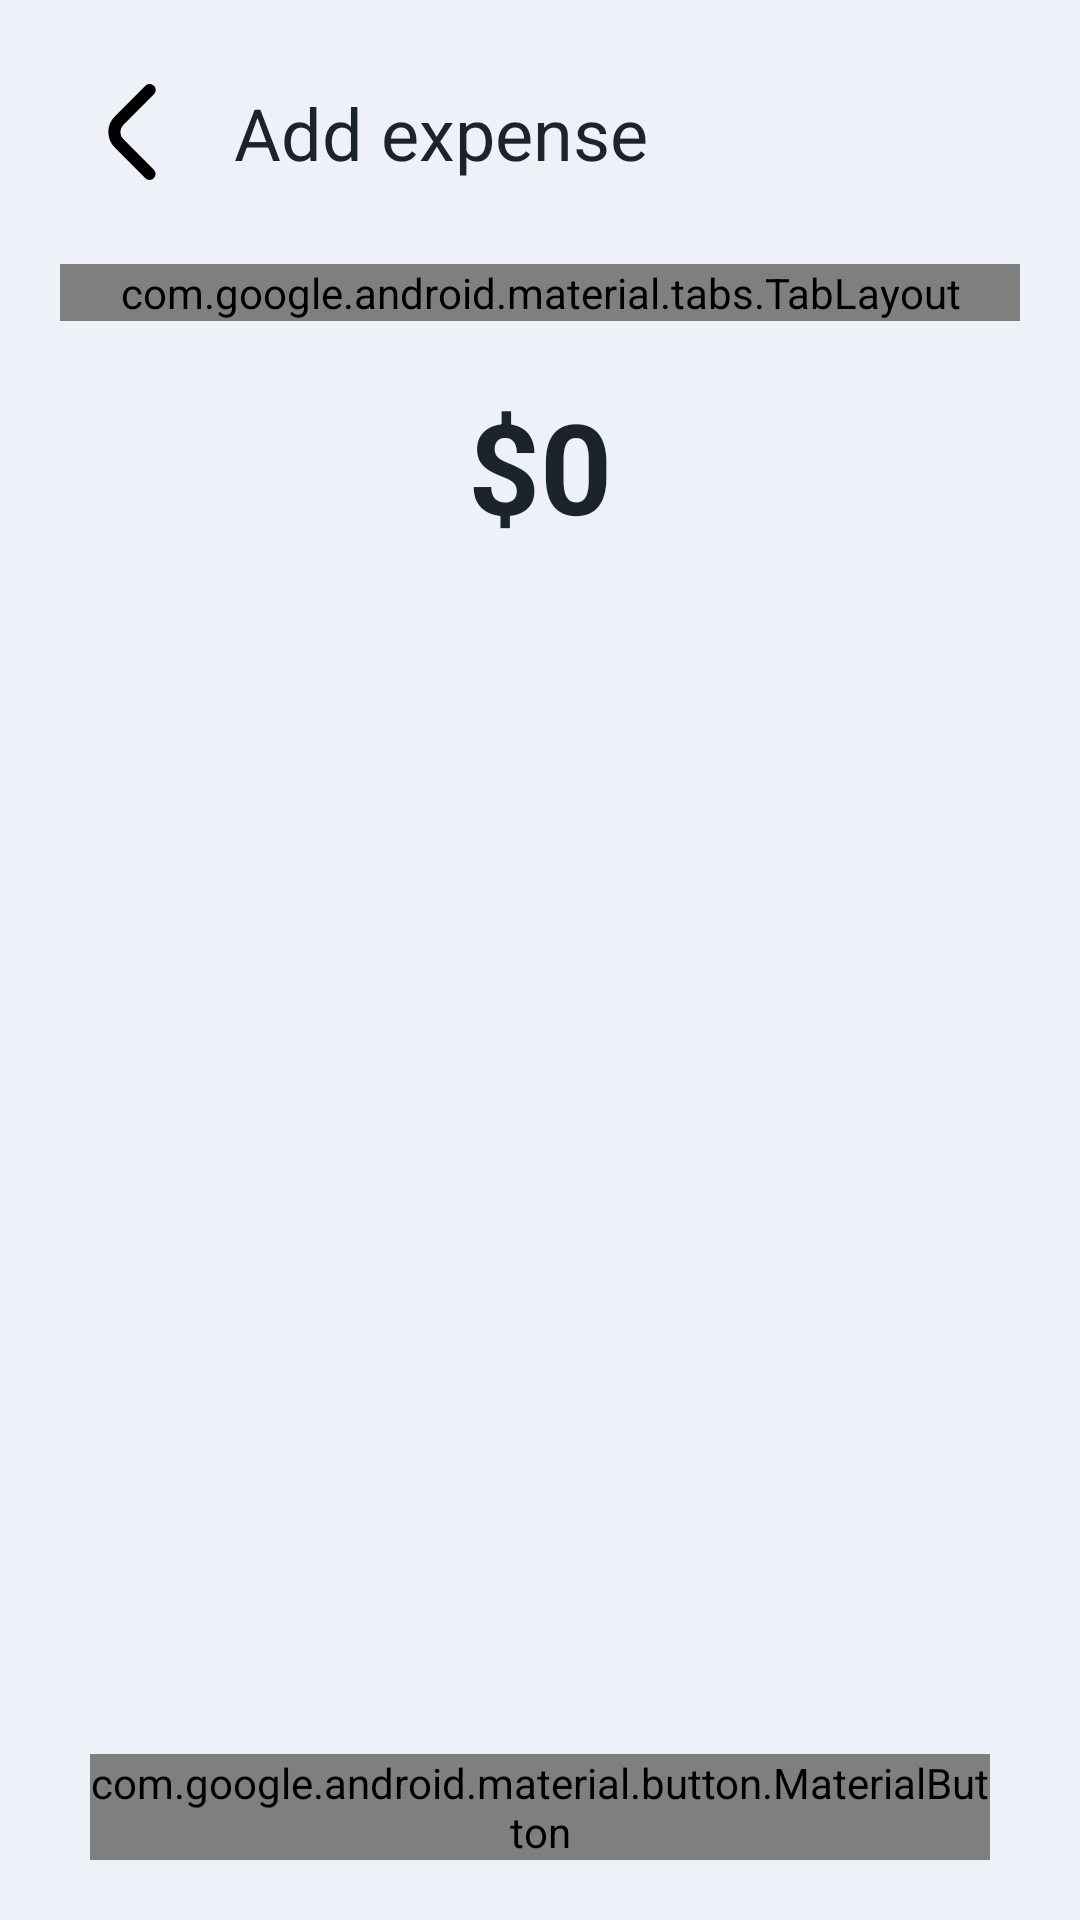

Point at icon controls on the screen. Image size 1080px x 1920px, points as [x,y].
back: [132,132]
